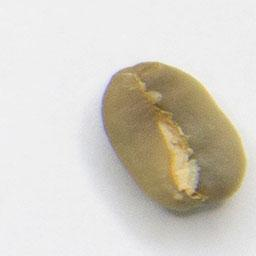premium: (97, 58, 250, 215)
